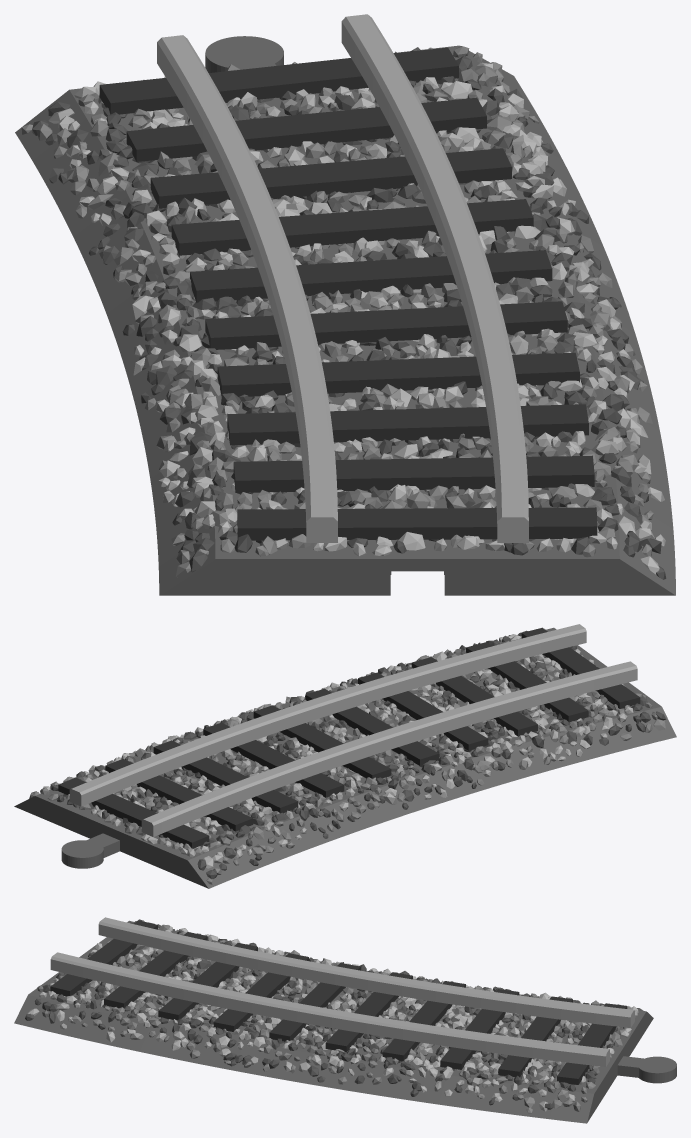
File: Rail_Left_60_75.obj
3 views of the same model, one above another, from view 1: azimuth 30°, elevation 25°; view 2: azimuth 150°, elevation 25°; view 3: azimuth 270°, elevation 25° (orthographic). The views are drawn at different scales.
Visible parts, largest first — view 1: Rail_Left_60_75; view 2: Rail_Left_60_75; view 3: Rail_Left_60_75.
Boxes of the visible parts, x1,y1,x2,y2 form: Rail_Left_60_75: [15, 14, 675, 595]; Rail_Left_60_75: [14, 624, 676, 888]; Rail_Left_60_75: [14, 917, 676, 1123].
Size of the model in its own units: 0.821 by 0.0811 by 1.18.
1 material, 1 textured.
